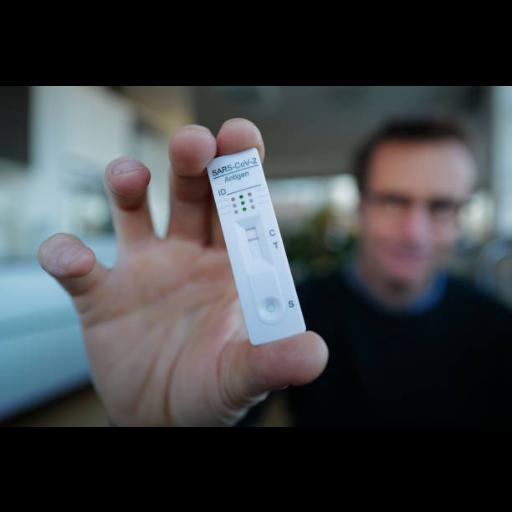Neg: (204, 145, 309, 347)
